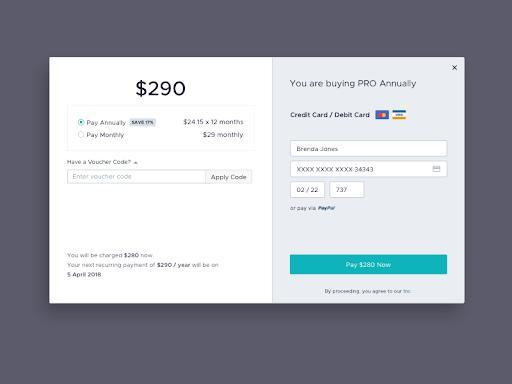button: (290, 255, 449, 276), (208, 170, 253, 185)
input: (292, 142, 448, 158), (292, 162, 448, 178), (68, 170, 207, 184), (330, 182, 365, 199), (291, 183, 326, 198)
label: (68, 158, 140, 166), (88, 120, 127, 127), (88, 133, 125, 139)
radio: (78, 118, 86, 127), (79, 131, 86, 139)
